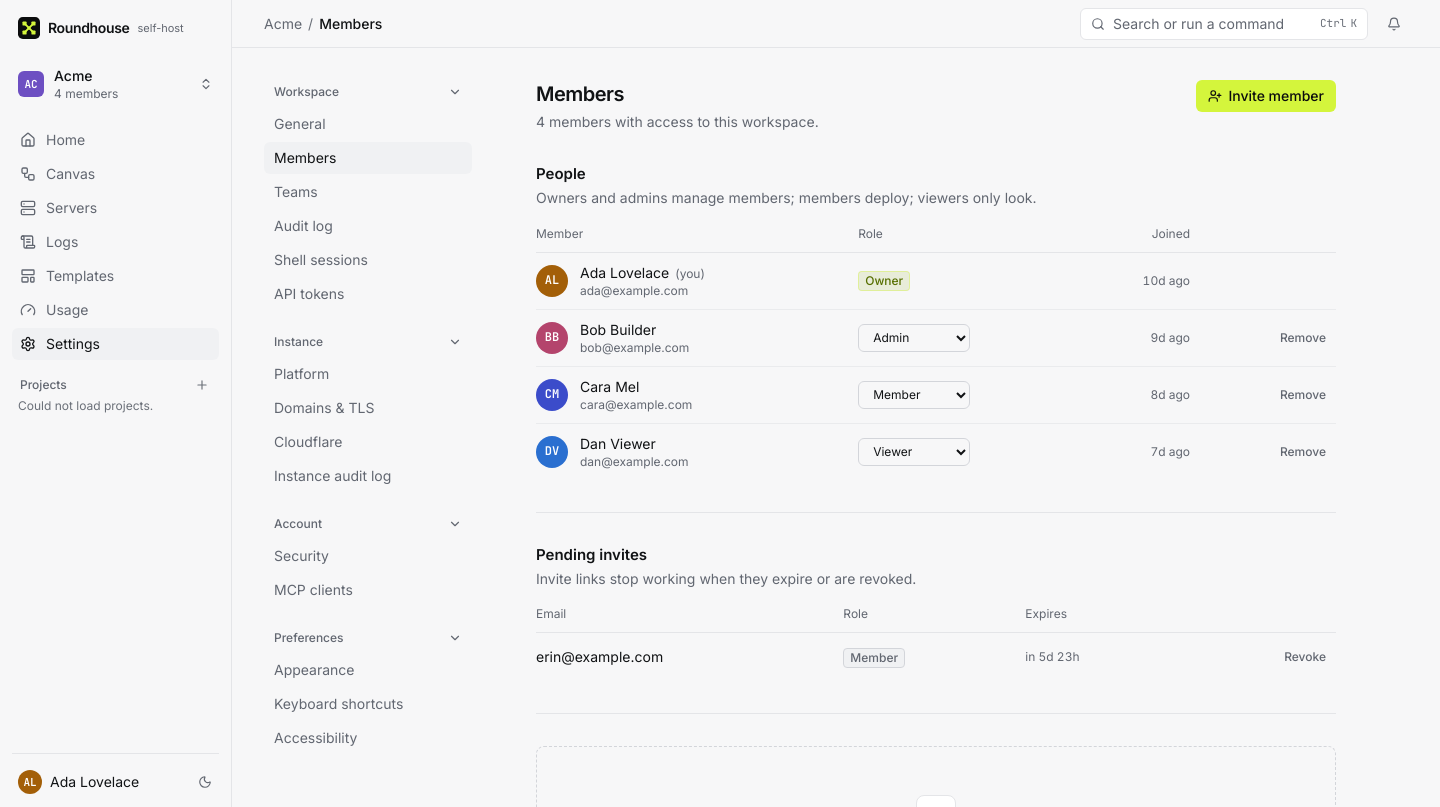
Test case: member management › reports a failed role change
Expected: the navigation bar named "Settings" is shown, left=264, top=80, right=472, bottom=754
Select "Viewer" in the dropdown named "Role for Bob Builder": (914, 338) left=858, top=324, right=970, bottom=352
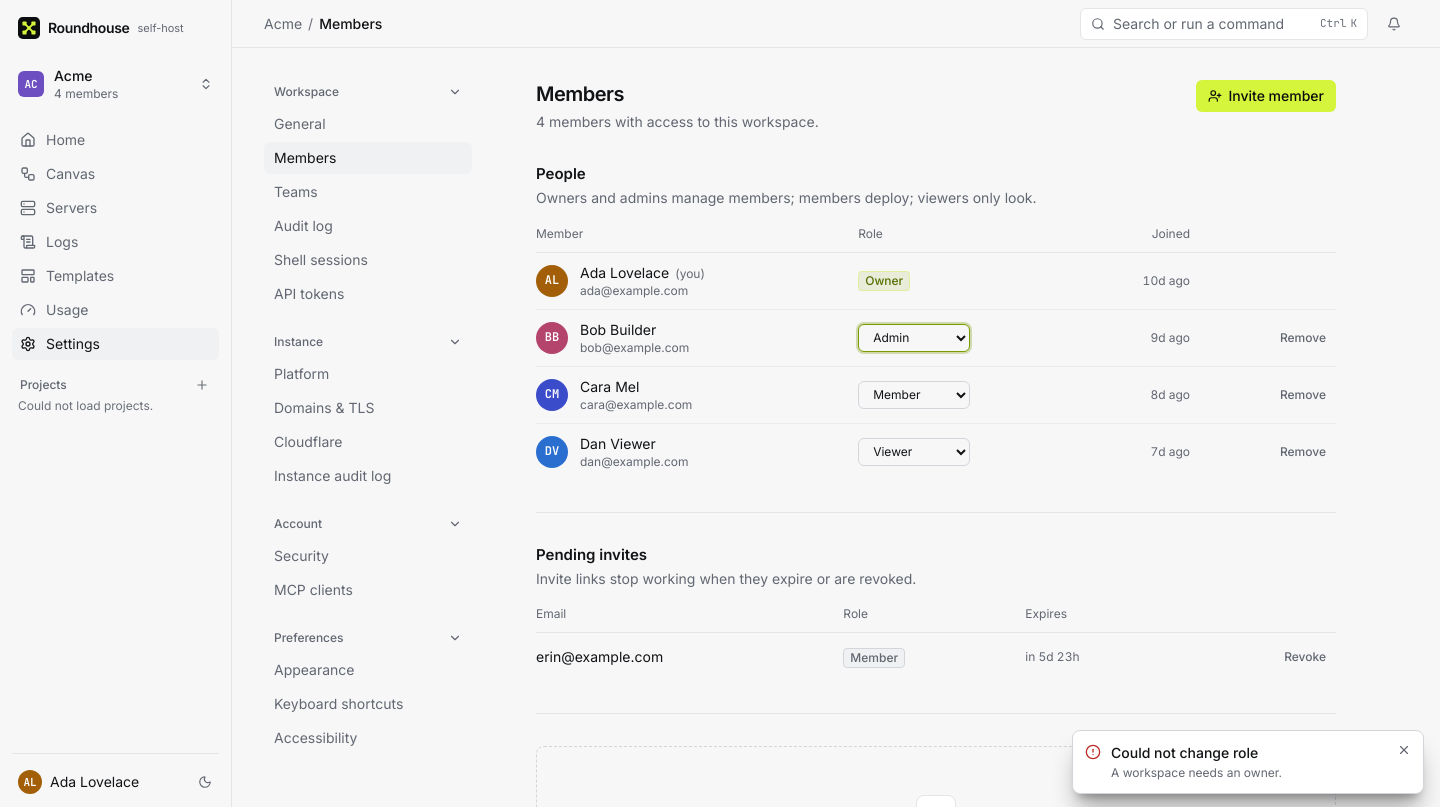
Expected: the text "A workspace needs an owner." is shown, left=1111, top=765, right=1282, bottom=781
